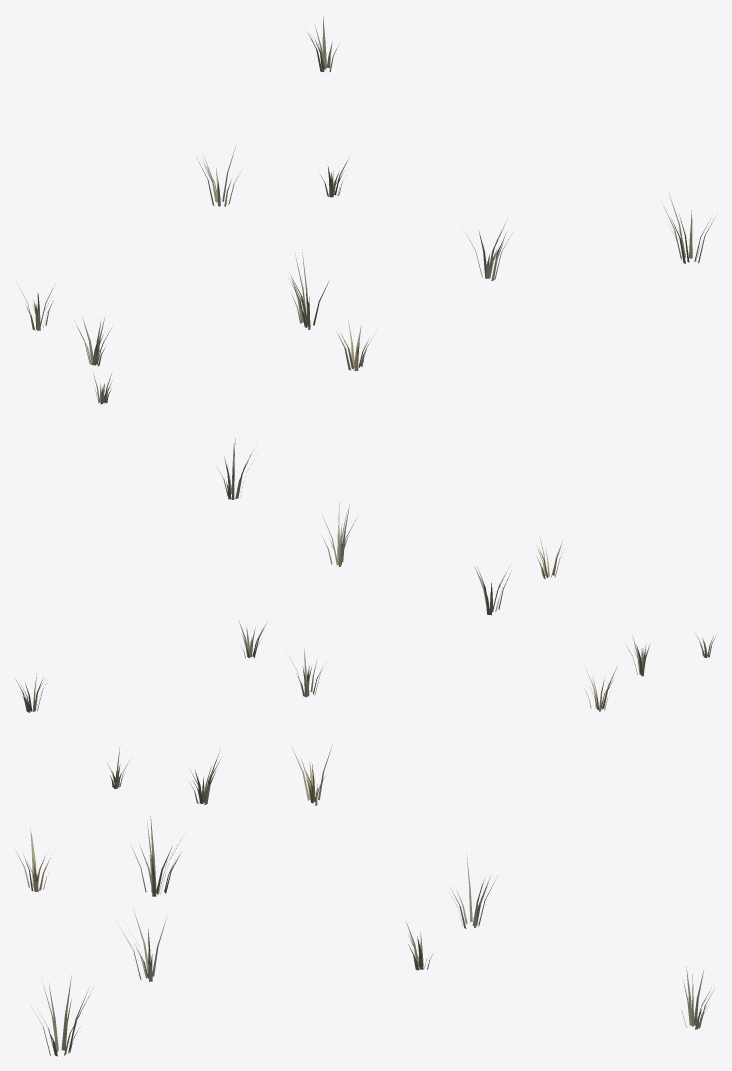
The model's file is AE_Grass_-6_-4.fbx.
3 views of the same model, one above another, from view 1: azimuth 30°, elevation 25°; view 2: azimuth 150°, elevation 25°; view 3: azimuth 270°, elevation 25° (orthographic). The views are drawn at different scales.
Visible parts, largest first — view 1: AE_Grass_-6_-4_LOD0; view 2: AE_Grass_-6_-4_LOD0; view 3: AE_Grass_-6_-4_LOD0.
Boxes of the visible parts, x1,y1,x2,y2 form: AE_Grass_-6_-4_LOD0: (16,15,713,404); AE_Grass_-6_-4_LOD0: (15,438,716,712); AE_Grass_-6_-4_LOD0: (15,744,713,1056).
Size of what is drawn, in the model's own units: 856 by 121 by 828.
